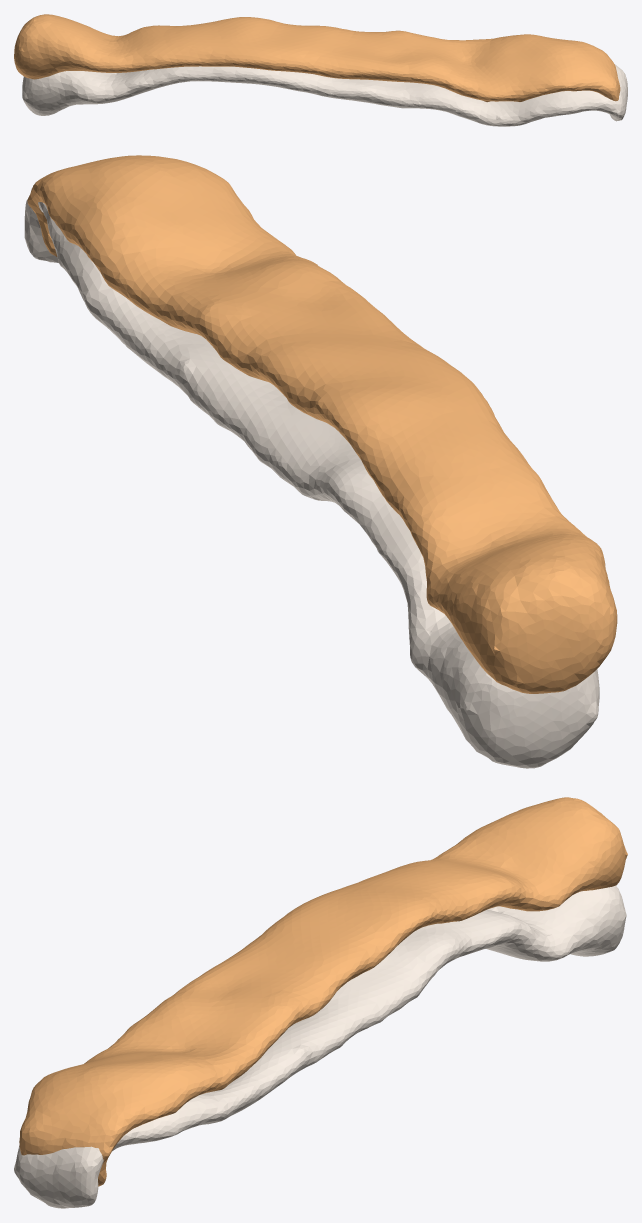
The model's file is hkw.obj.
3 renders of one model, top to bottom at view 1: azimuth 30°, elevation 25°; view 2: azimuth 150°, elevation 25°; view 3: azimuth 270°, elevation 25°, orthographic. The views are drawn at different scales.
Bounding box in the file's own units: 0.62 × 0.1354 × 0.4879.
